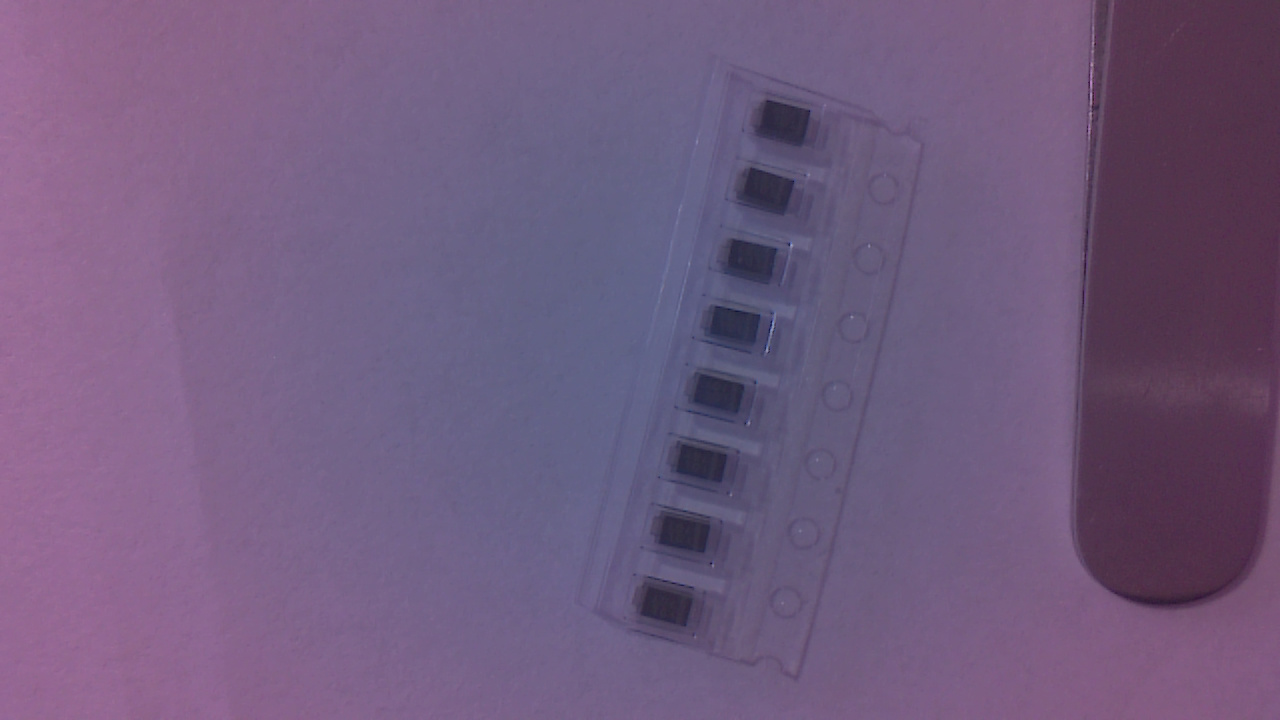Diode: (637, 583, 710, 631), (653, 514, 727, 560), (738, 169, 807, 217), (675, 444, 747, 490), (688, 375, 760, 420), (705, 309, 775, 355), (755, 104, 827, 147), (723, 241, 787, 287)
